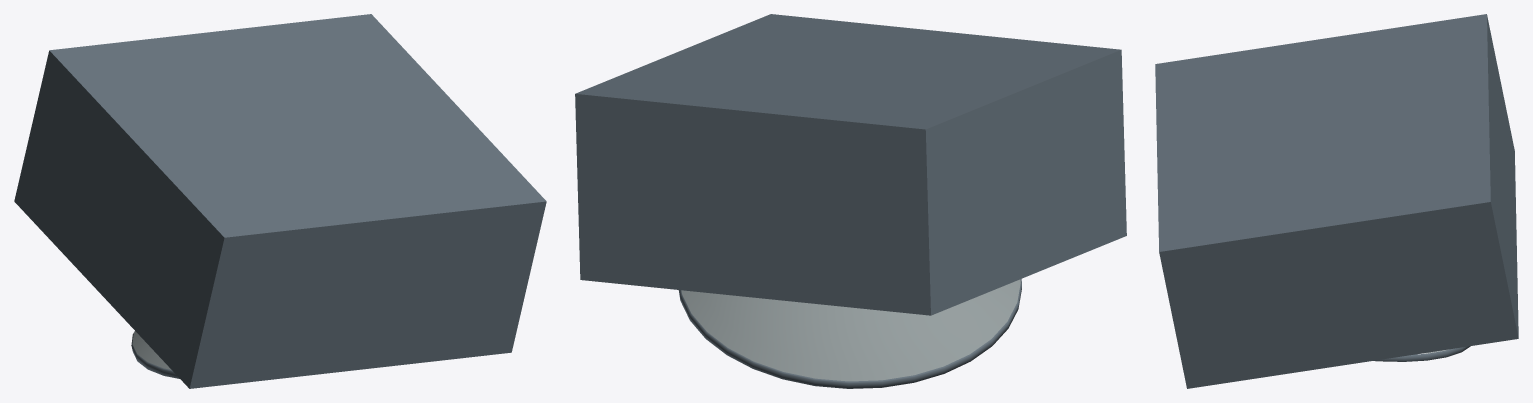
The model's file is eagle_descent.landing_radar.glb.
The picture shows the model from 3 angles, left to right: view 1: azimuth 30°, elevation 25°; view 2: azimuth 150°, elevation 25°; view 3: azimuth 270°, elevation 25°; orthographic projection. The views are drawn at different scales.
Visible parts, largest first — view 1: eagle_descent.landing_radar.mesh, eagle_descent.landing_radar.array.mesh; view 2: eagle_descent.landing_radar.mesh, eagle_descent.landing_radar.array.mesh; view 3: eagle_descent.landing_radar.mesh, eagle_descent.landing_radar.array.mesh.
Boxes of the visible parts, box(x1,y1,x2,y2) form: eagle_descent.landing_radar.mesh: box(14, 14, 546, 388); eagle_descent.landing_radar.array.mesh: box(131, 331, 179, 378); eagle_descent.landing_radar.mesh: box(575, 14, 1126, 315); eagle_descent.landing_radar.array.mesh: box(678, 279, 1021, 388); eagle_descent.landing_radar.mesh: box(1155, 14, 1518, 388); eagle_descent.landing_radar.array.mesh: box(1373, 346, 1470, 361).
Size of the model in its own units: 0.5422 by 0.4437 by 0.5292.
